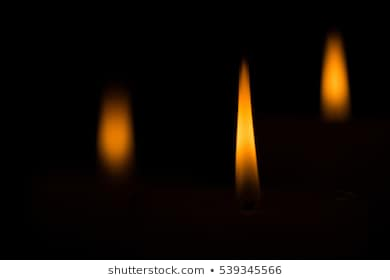Fire: (229, 66, 261, 189), (319, 25, 352, 119), (97, 94, 134, 172)
